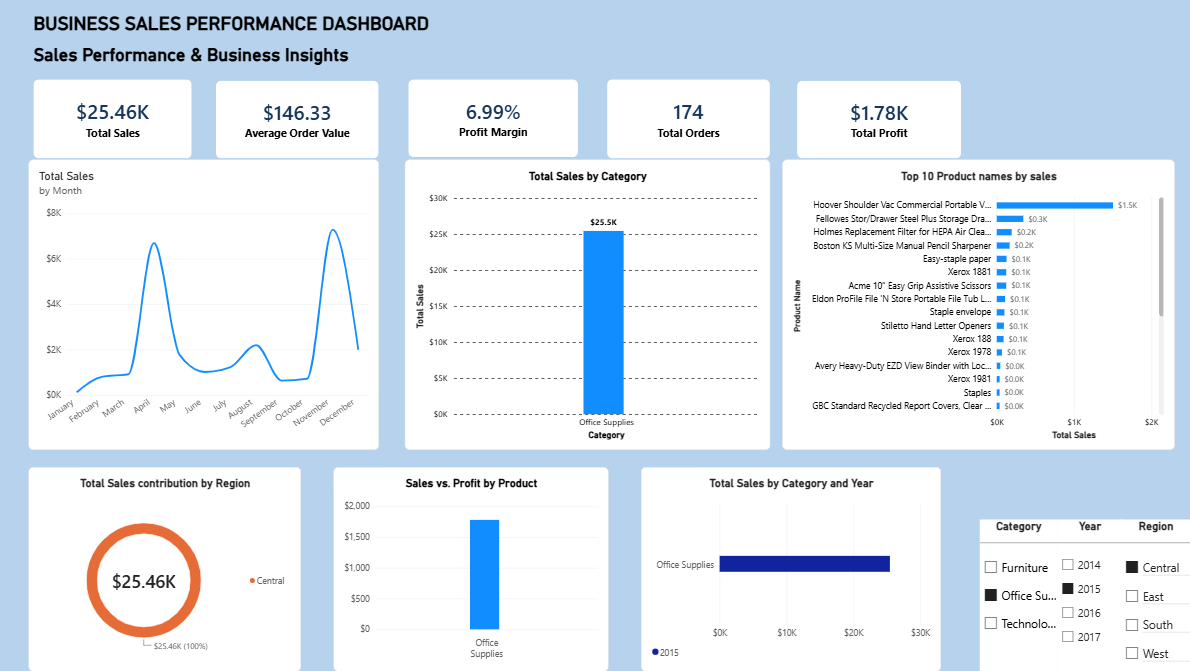

This screenshot's page, from the dashboard's own definition file:
{"tool":"powerbi","page":{"name":"Page 1","canvas":[1920,1080],"ordinal":0},"visuals":[{"type":"textbox","title":"BUSINESS SALES PERFORMANCE DASHBOARD","box":[68,24,1022,110],"z":0},{"type":"cardVisual","fields":{"Data":["DateTable.Total Revenue"]},"box":[46,156,254,102],"z":1000},{"type":"cardVisual","fields":{"Data":["DateTable.Average Order Value"]},"box":[348,156,260,102],"z":2000},{"type":"cardVisual","fields":{"Data":["DateTable.Profit Margin"]},"box":[662,156,272,102],"z":3000},{"type":"cardVisual","fields":{"Data":["DateTable.Total Orders"]},"box":[986,156,260,102],"z":4000},{"type":"cardVisual","fields":{"Data":["DateTable.Total Profit"]},"box":[1280,156,262,102],"z":5000},{"type":"columnChart","title":"Total Sales by Category","fields":{"Category":["Superstores_cleaned.Category"],"Y":["DateTable.Total Sales"]},"box":[46,722,562,358],"z":6000},{"type":"donutChart","title":"Total Sales contribution by Region","fields":{"Category":["Superstores_cleaned.Region"],"Y":["DateTable.Total Sales"]},"box":[594,282,436,424],"z":7000},{"type":"slicer","title":"Year","fields":{"Values":["DateTable.Year"]},"box":[1450,18,184,118],"z":8000},{"type":"slicer","title":"Category","fields":{"Values":["Superstores_cleaned.Category"]},"box":[1228,18,184,118],"z":9000},{"type":"slicer","title":"Region","fields":{"Values":["Superstores_cleaned.Region"]},"box":[1680,18,186,116],"z":10000},{"type":"lineChart","title":"Total Sales by Over Time","fields":{"Category":["DateTable.Month"],"Y":["DateTable.Total Sales"]},"box":[20,282,560,424],"z":11000},{"type":"clusteredBarChart","title":"Top 10 Product names by sales","fields":{"Category":["Superstores_cleaned.Product Name"],"Y":["DateTable.Total Sales"]},"box":[1048,282,844,424],"z":12000},{"type":"columnChart","title":"Total Profit by Category","fields":{"Category":["Superstores_cleaned.Category"],"Y":["DateTable.Total Profit"]},"box":[672,722,576,358],"z":12001},{"type":"barChart","fields":{"Category":["Superstores_cleaned.Category"],"Series":["DateTable.Year"],"Y":["DateTable.Total Sales"]},"box":[1280,722,612,358],"z":12002}]}

Visuals, with their boxes in screenshot pixels (x1, y1, x2, y2), scaled from the page's 1920x1080 canvas onto the 1190x671 screenshot:
"BUSINESS SALES PERFORMANCE DASHBOARD" textbox: 42, 15, 676, 83
cardVisual - DateTable.Total Revenue: 29, 97, 186, 160
cardVisual - DateTable.Average Order Value: 216, 97, 377, 160
cardVisual - DateTable.Profit Margin: 410, 97, 579, 160
cardVisual - DateTable.Total Orders: 611, 97, 772, 160
cardVisual - DateTable.Total Profit: 793, 97, 956, 160
"Total Sales by Category" columnChart: 29, 449, 377, 670
"Total Sales contribution by Region" donutChart: 368, 175, 638, 439
"Year" slicer: 899, 11, 1013, 84
"Category" slicer: 761, 11, 875, 84
"Region" slicer: 1041, 11, 1157, 83
"Total Sales by Over Time" lineChart: 12, 175, 359, 439
"Top 10 Product names by sales" clusteredBarChart: 650, 175, 1173, 439
"Total Profit by Category" columnChart: 416, 449, 774, 670
barChart - Superstores_cleaned.Category x DateTable.Year: 793, 449, 1173, 670
